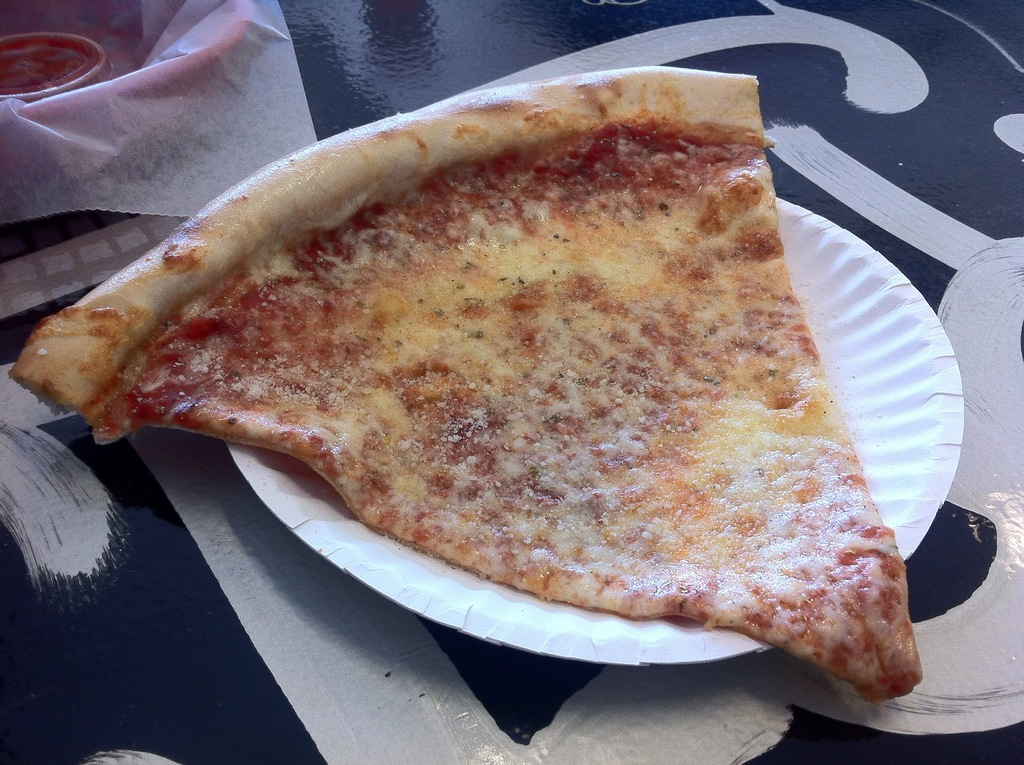Pizza: (12, 58, 927, 704)
